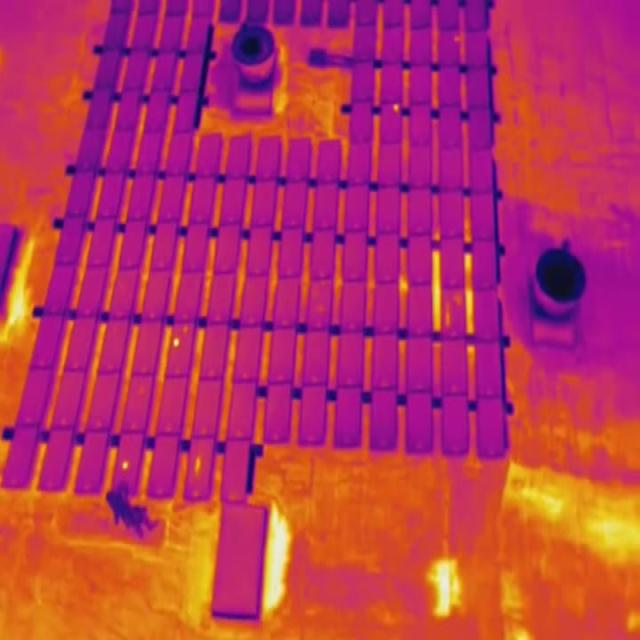Orange-Spots: (193, 456, 202, 476), (445, 305, 451, 326), (173, 338, 181, 348), (122, 460, 129, 470), (393, 104, 400, 112), (454, 35, 460, 41)
